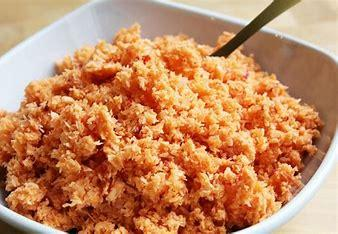Pol Sambol: (6, 15, 304, 220)
